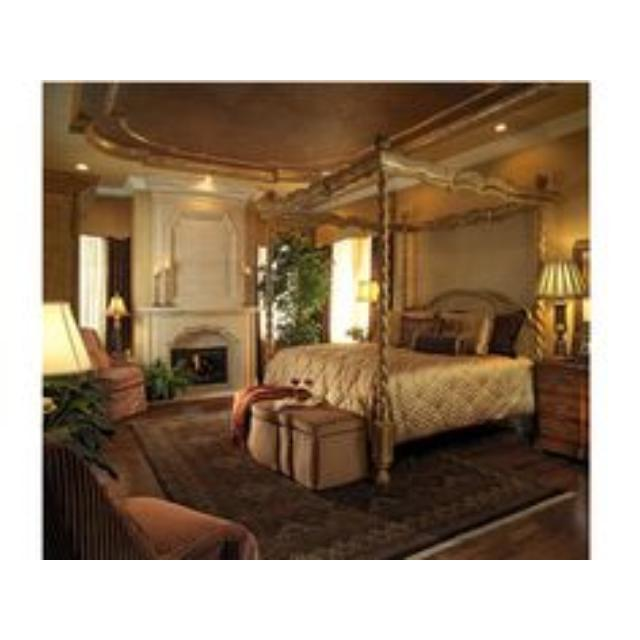bed: (266, 138, 552, 481)
chair: (45, 443, 259, 558), (83, 329, 146, 421)
lamp: (538, 261, 586, 356), (44, 302, 94, 376), (106, 292, 129, 354)
plant: (45, 376, 115, 476), (145, 360, 188, 399)
rug: (131, 401, 577, 559)
table: (539, 361, 588, 459)
